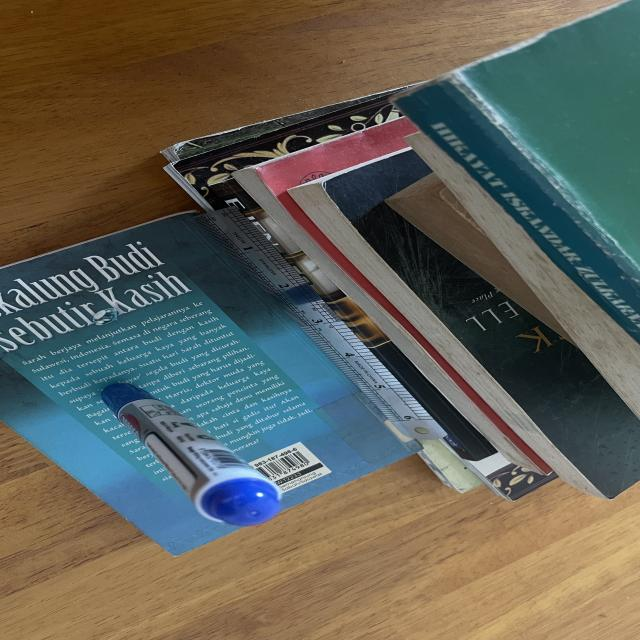marker: (102, 383, 280, 525)
ruler: (196, 207, 446, 439)
